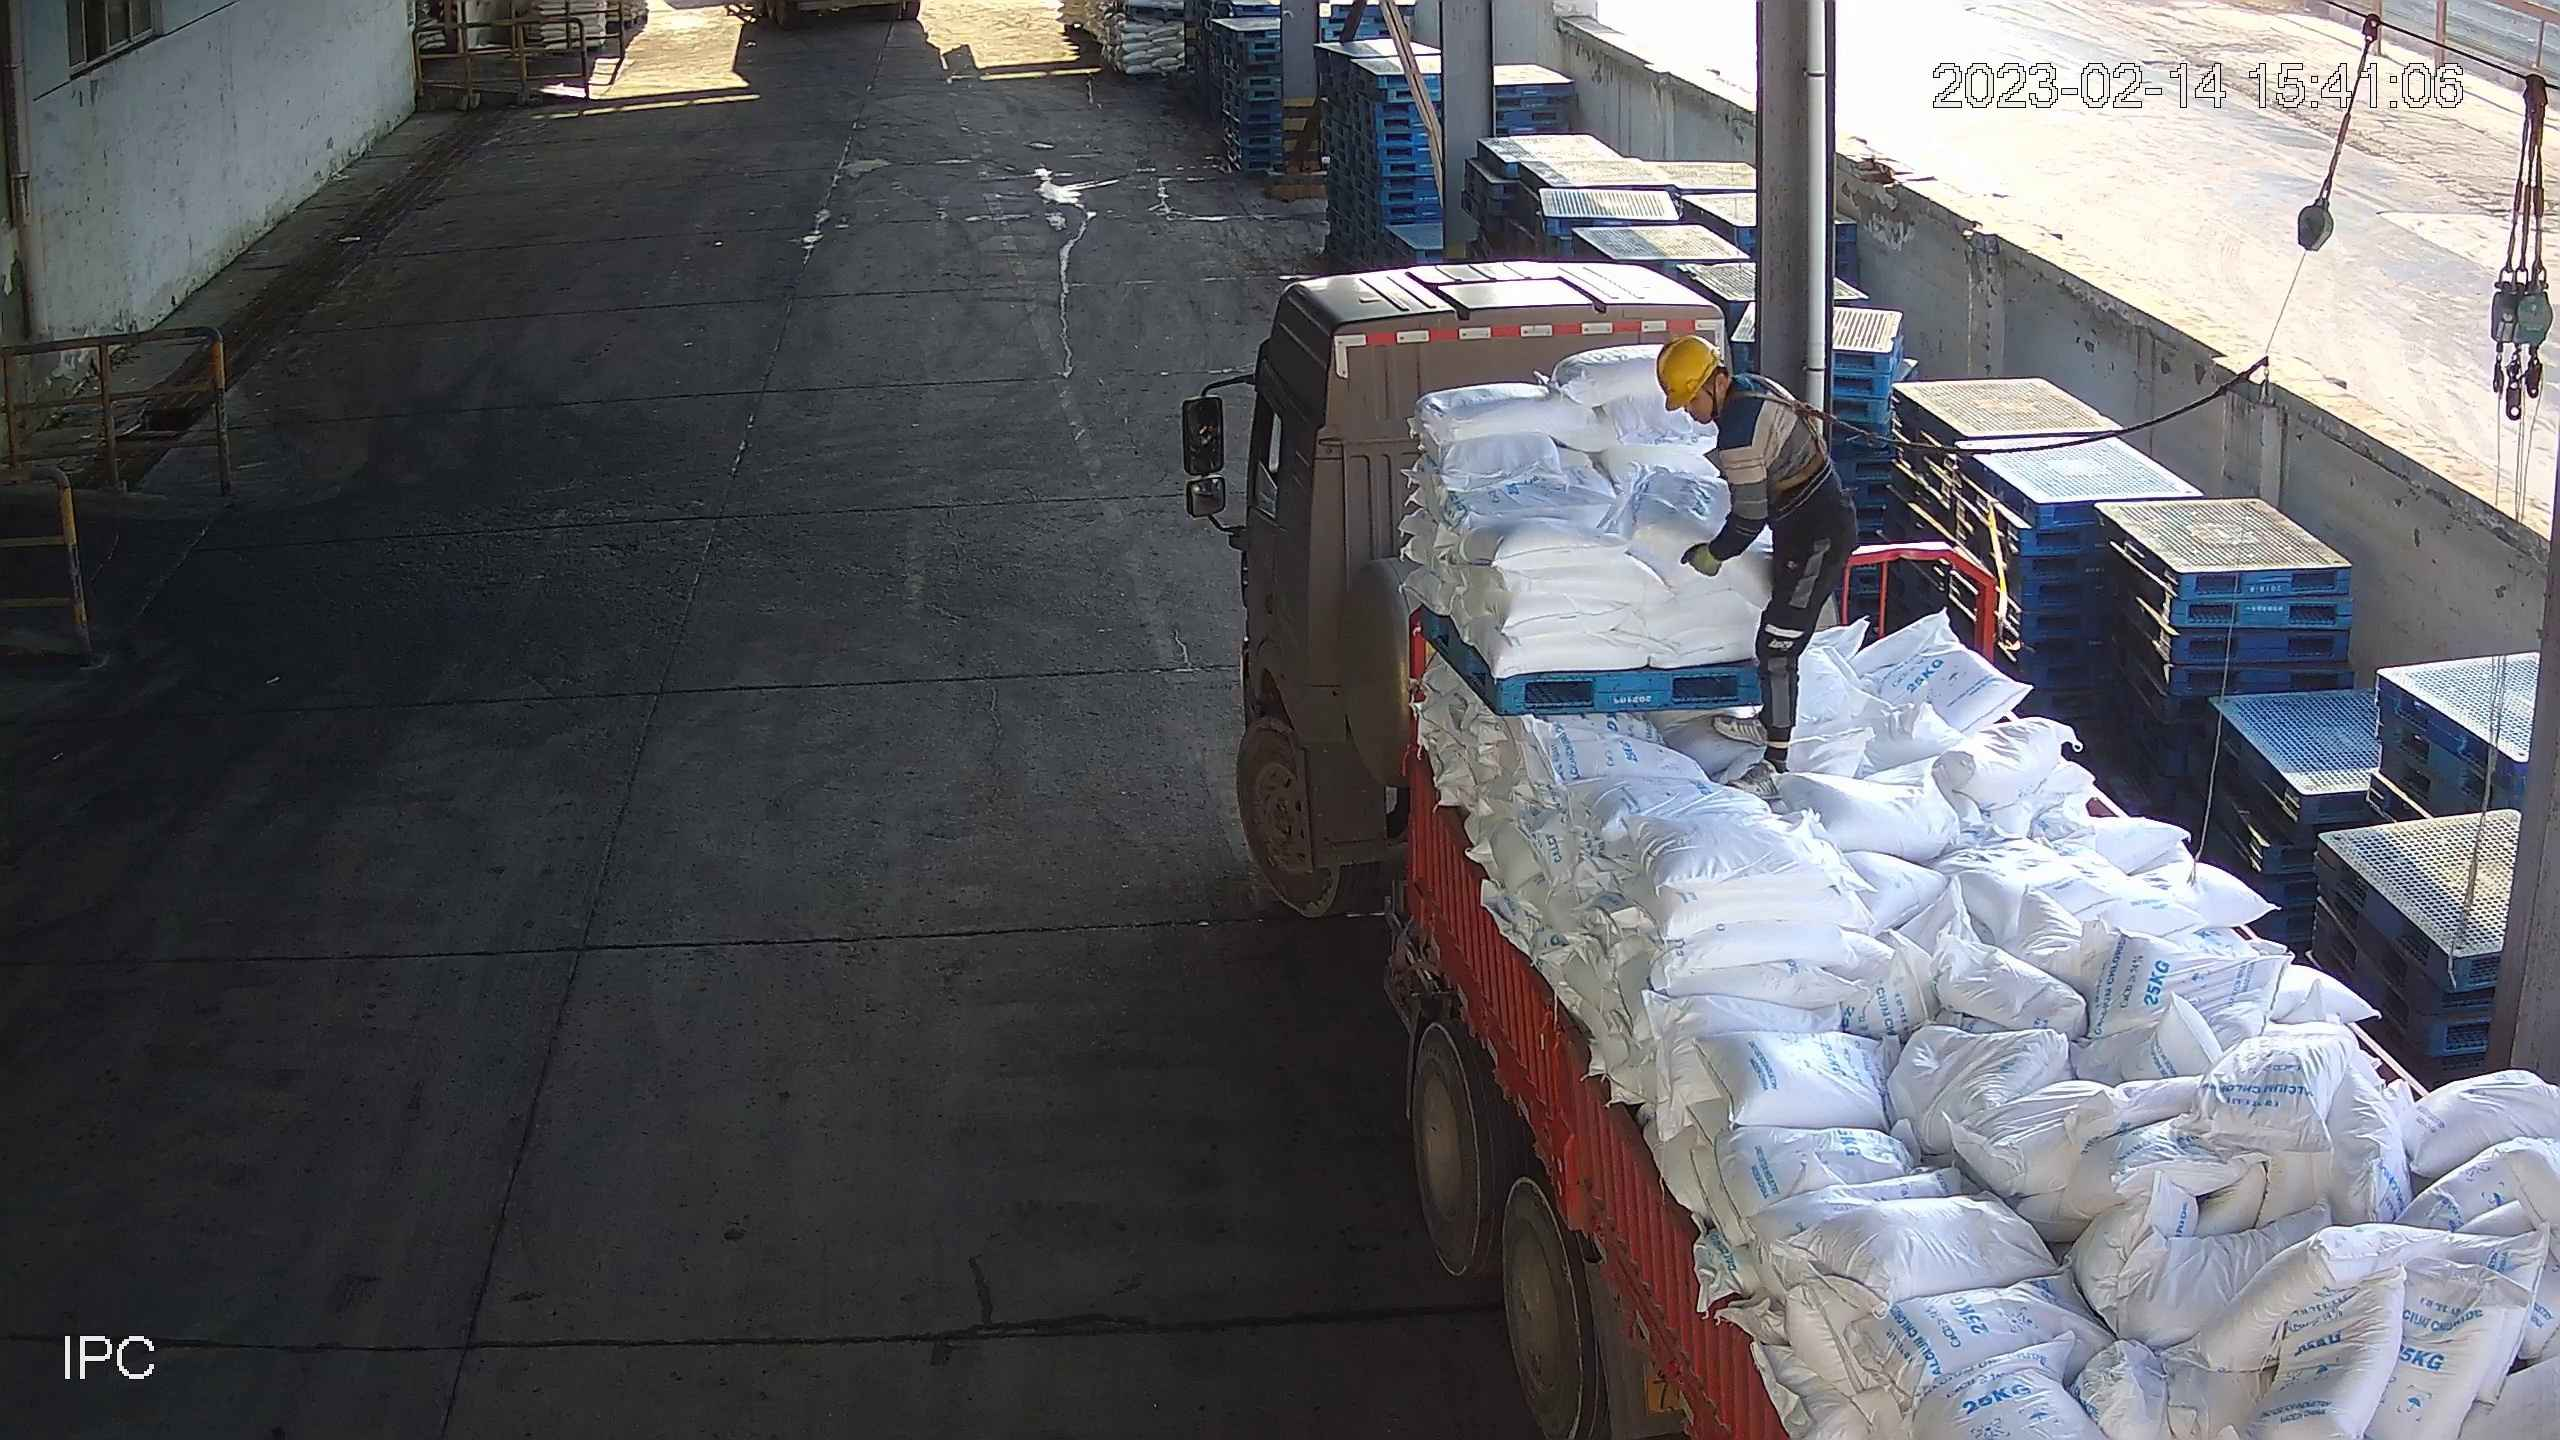belt: (1734, 378, 1848, 494)
head: (1655, 339, 1804, 478)
helmet: (1655, 337, 1718, 408)
people: (1653, 332, 1863, 802)
truck: (1170, 265, 2560, 1440)
